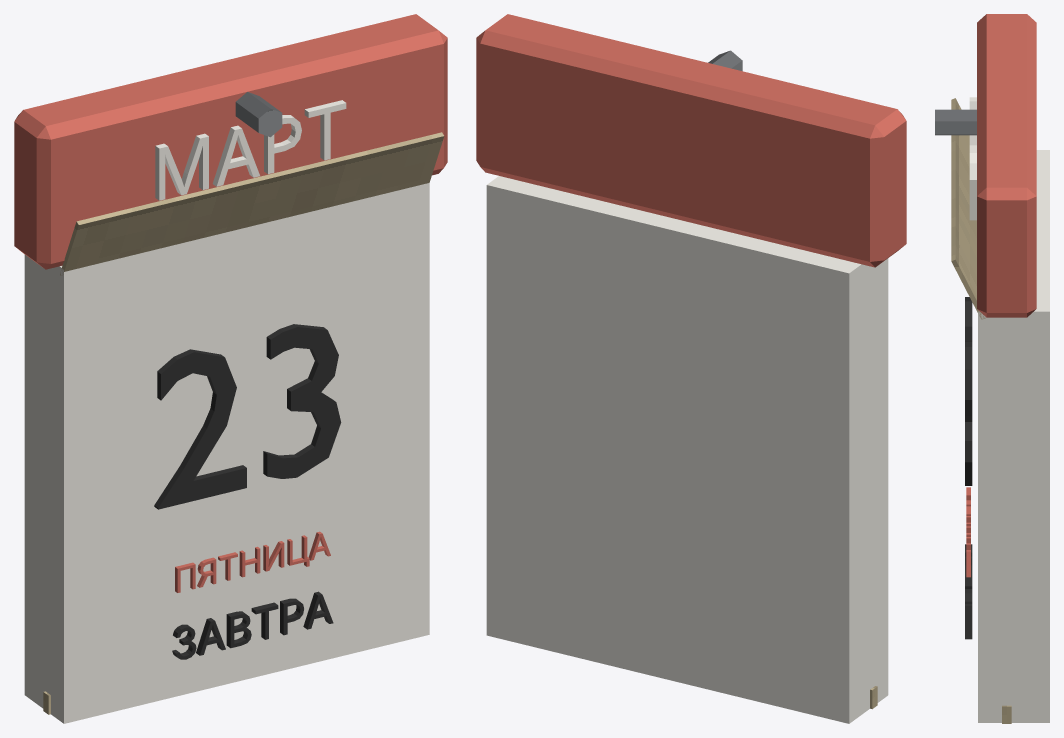
Rendered from tear_calendar.glb.
3 renders of one model, left to right at view 1: azimuth 30°, elevation 25°; view 2: azimuth 150°, elevation 25°; view 3: azimuth 270°, elevation 25°, orthographic. The views are drawn at different scales.
Parts seen in each view (by area): view 1: tear_calendar; view 2: tear_calendar; view 3: tear_calendar.
Boxes of the visible parts, <box> form: tear_calendar: <box>14,14,447,723</box>; tear_calendar: <box>476,14,906,723</box>; tear_calendar: <box>935,14,1049,723</box>.
Size of the model in its own units: 0.18 by 0.25 by 0.048.
Materials: 5 (2 with a texture image).
